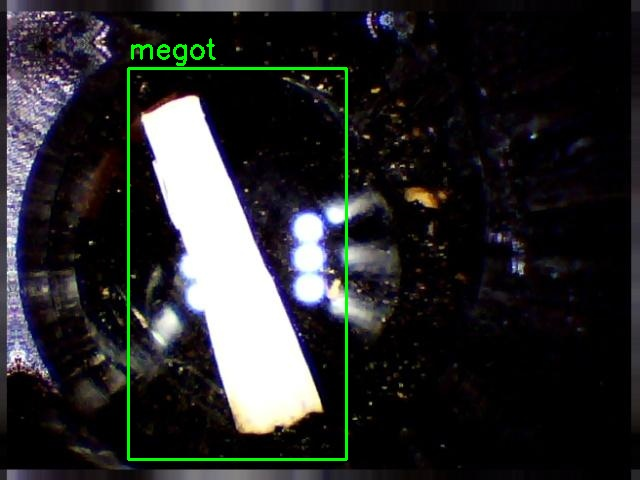megot: (128, 68, 346, 459)
